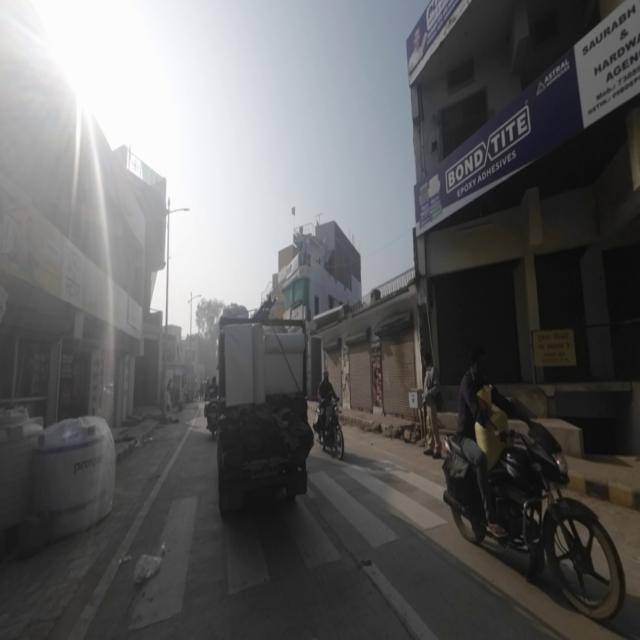Garbage: (130, 542, 167, 590)
